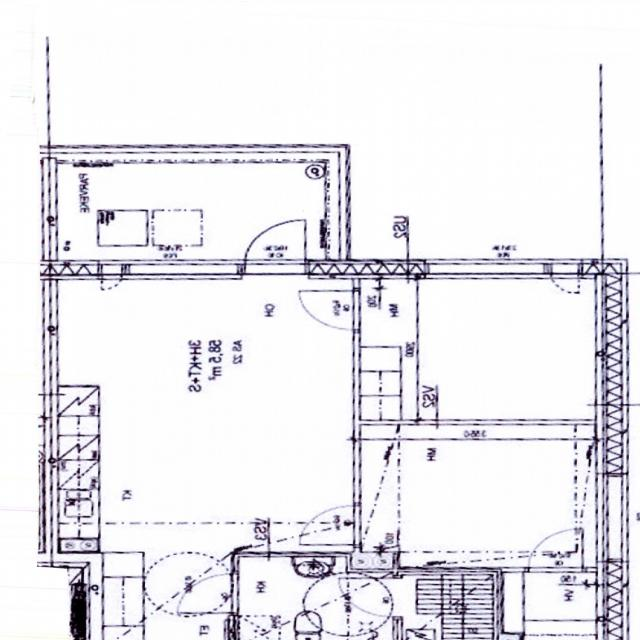door: (244, 215, 306, 278), (297, 505, 361, 545), (175, 574, 238, 613), (298, 291, 362, 329), (338, 578, 402, 616), (530, 528, 583, 572)
